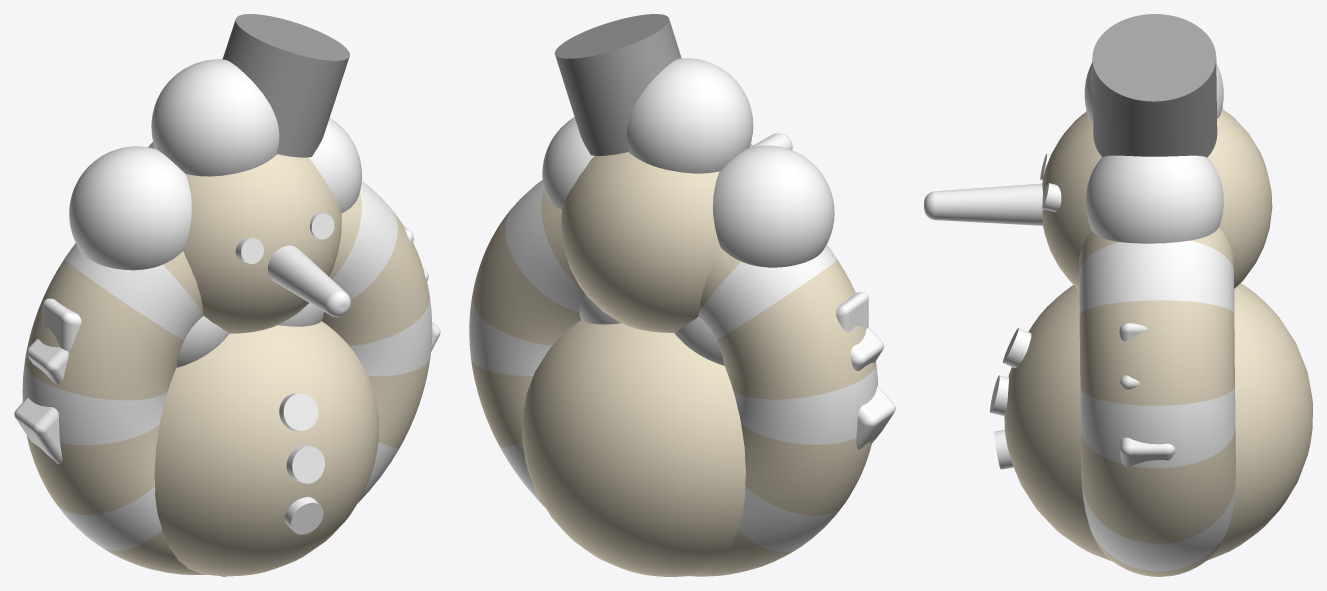
3 views of the same model, side by side, from view 1: azimuth 30°, elevation 25°; view 2: azimuth 150°, elevation 25°; view 3: azimuth 270°, elevation 25° (orthographic). The views are drawn at different scales.
Parts seen in each view (by area): view 1: Body27, Body15, Body5, Body25; view 2: Body27, Body15, Body5, Body25; view 3: Body27, Body15, Body5, Body25.
Boxes of the visible parts, bbox=[...] form: Body27: bbox=[148, 14, 378, 576]; Body15: bbox=[22, 181, 432, 574]; Body5: bbox=[69, 59, 361, 367]; Body25: bbox=[14, 225, 440, 576]; Body27: bbox=[522, 14, 792, 576]; Body15: bbox=[469, 180, 877, 576]; Body5: bbox=[542, 58, 834, 365]; Body25: bbox=[836, 292, 895, 449]; Body27: bbox=[924, 14, 1312, 561]; Body15: bbox=[1079, 228, 1235, 576]; Body5: bbox=[1084, 62, 1223, 243]; Body25: bbox=[1119, 323, 1175, 466].
Bounding box in the file's own units: 0.0625 × 0.0782 × 0.0502.
